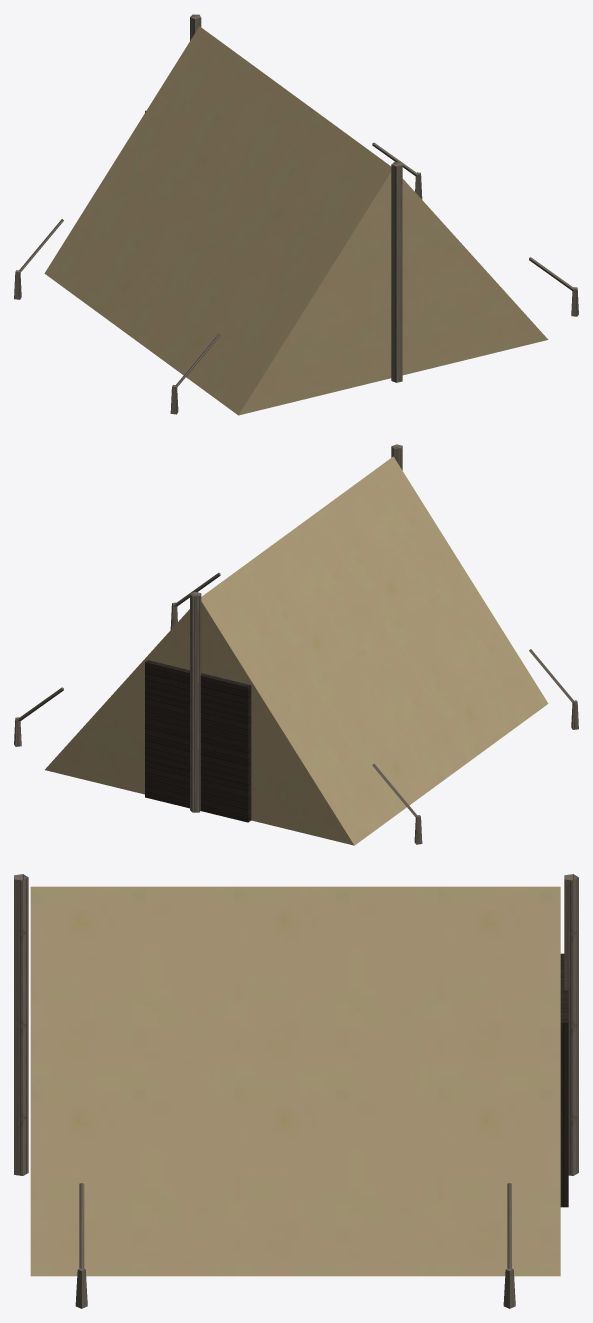
Rendered from tent_small_01.glb.
3 views of the same model, one above another, from view 1: azimuth 30°, elevation 25°; view 2: azimuth 150°, elevation 25°; view 3: azimuth 270°, elevation 25° (orthographic). The views are drawn at different scales.
Parts seen in each view (by area): view 1: tent_small_01; view 2: tent_small_01; view 3: tent_small_01.
Boxes of the visible parts, left/top/right/bottom form: tent_small_01: left=14, top=14, right=578, bottom=415; tent_small_01: left=14, top=444, right=578, bottom=845; tent_small_01: left=14, top=874, right=578, bottom=1308.
Size of the model in its own units: 3.16 by 1.6 by 2.77.
3 materials, 3 textured.
